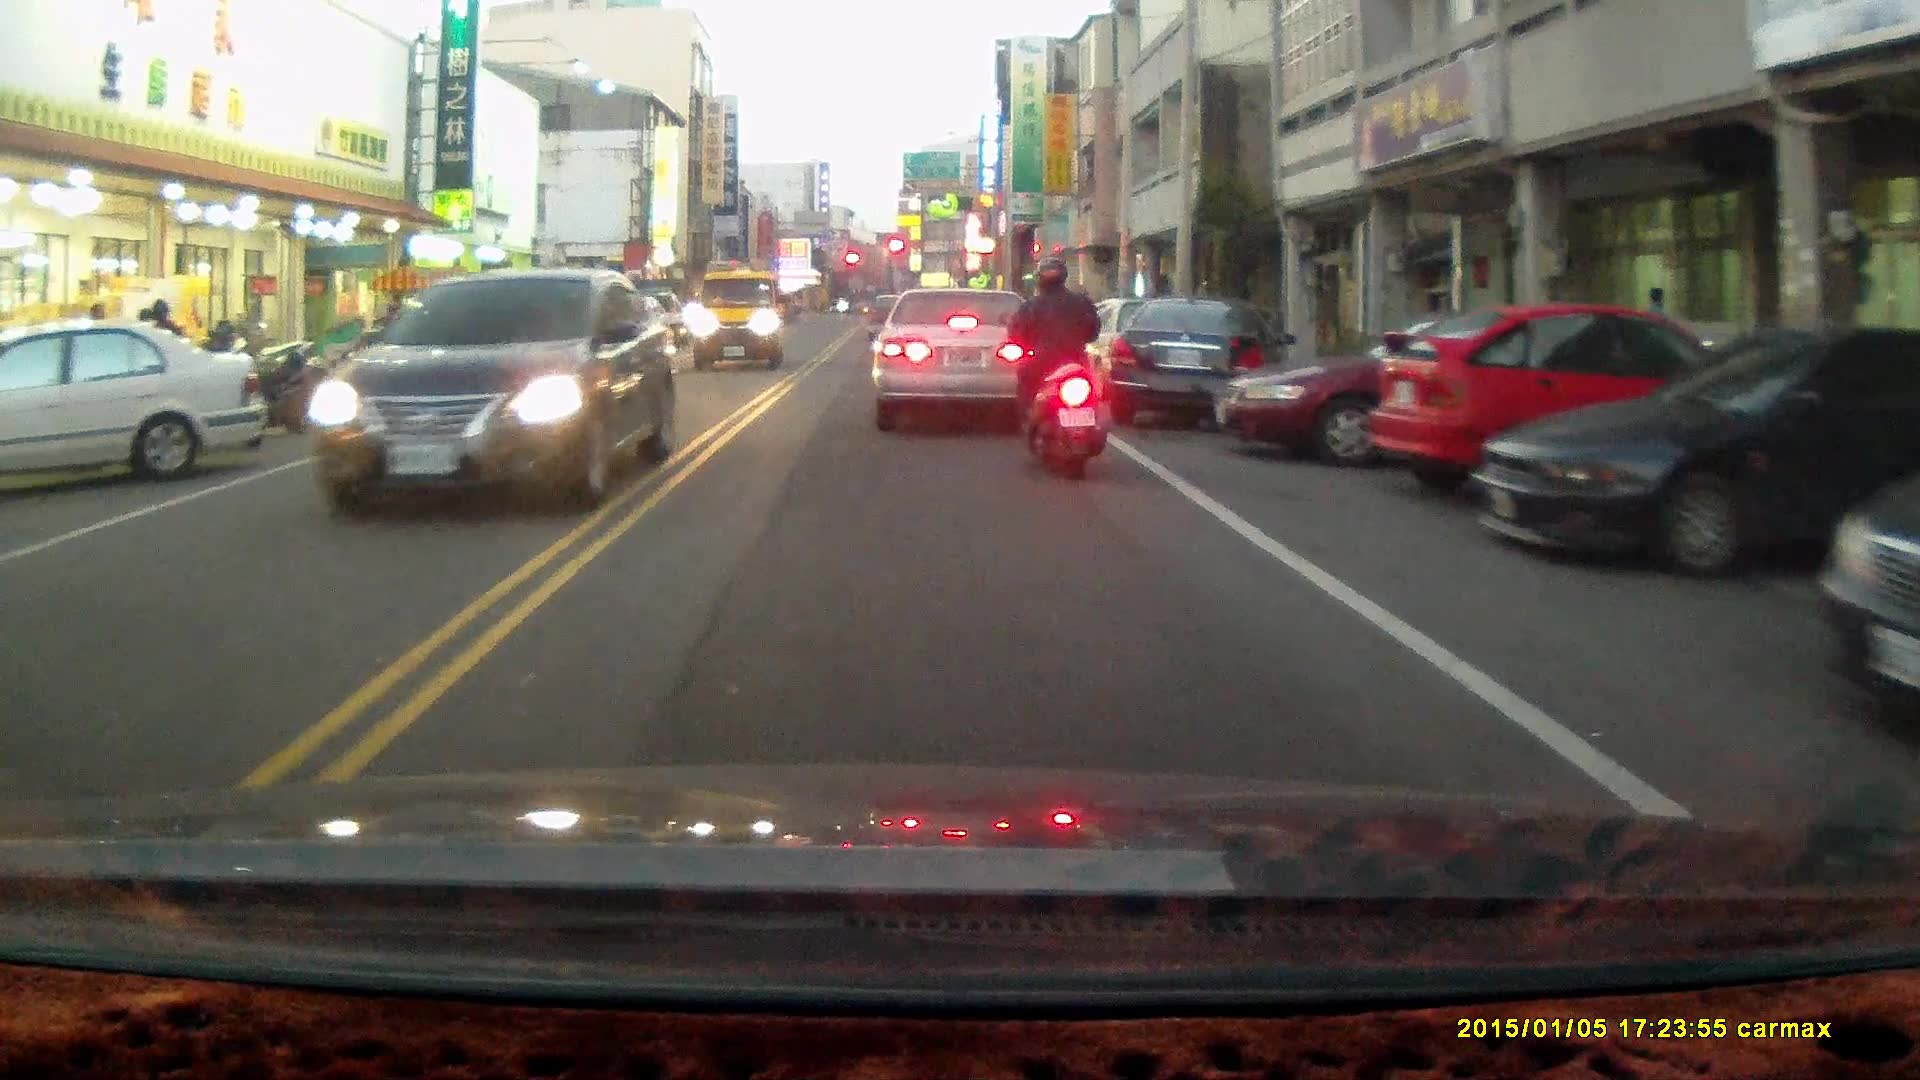rider: (998, 253, 1114, 479)
vehicle: (1468, 322, 1920, 578), (312, 264, 680, 513), (1367, 300, 1775, 505), (1210, 314, 1646, 465), (1, 319, 263, 491), (1817, 454, 1920, 727), (869, 283, 1046, 421), (1098, 294, 1270, 427), (689, 267, 784, 369)
